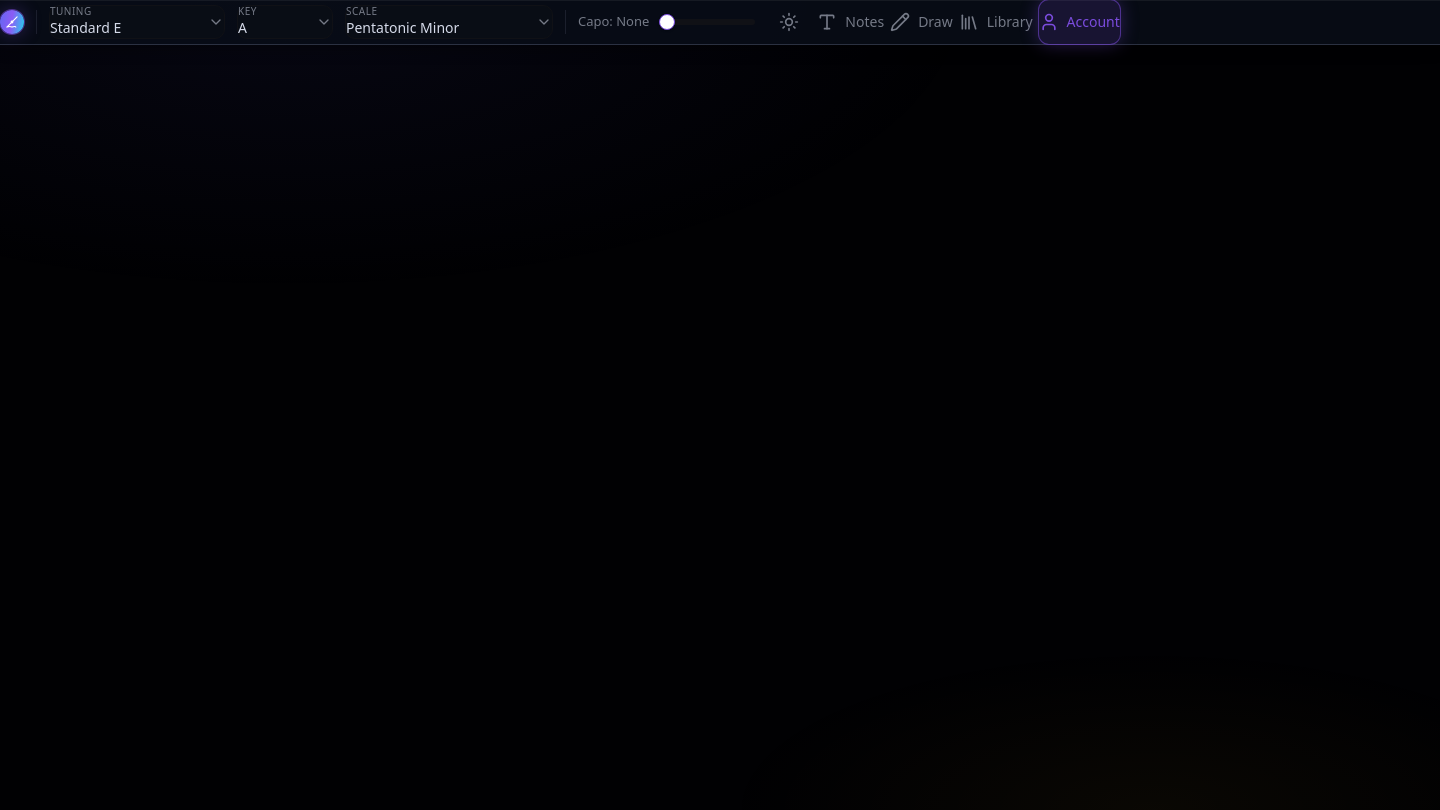
Scenario: ControlBar — account/auth › theme picker (Story 4.5) › the Account sheet includes the theme picker
Click the button labelled "Account" at (1079, 22), box [1039, 0, 1120, 44]
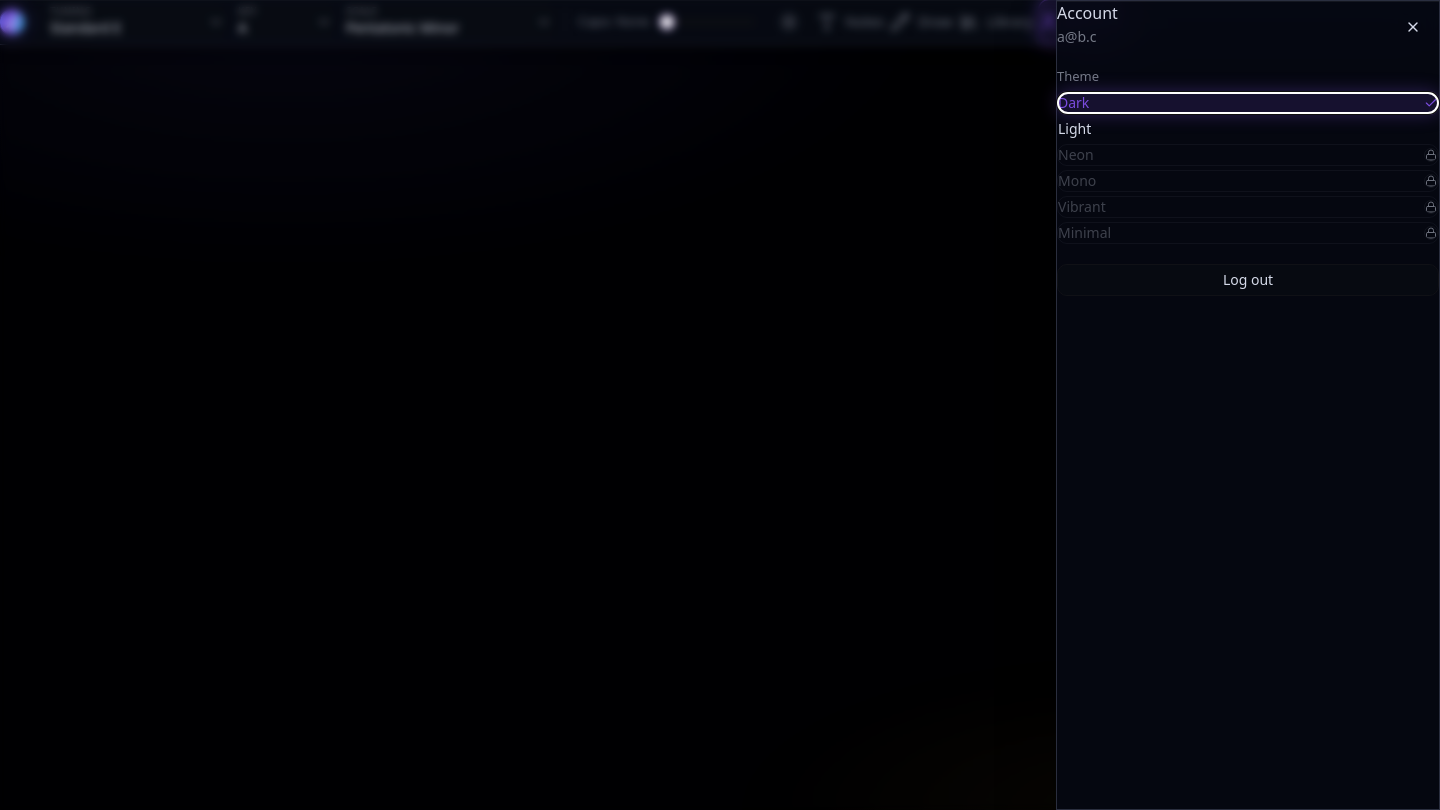
Expected: the text "Theme" is shown, [1057, 67, 1099, 85]
Expected: the number of options is 6, [1057, 92, 1439, 114]; [1057, 118, 1439, 140]; [1057, 144, 1439, 166]; [1057, 170, 1439, 192]; [1057, 196, 1439, 218]; [1057, 222, 1439, 244]
